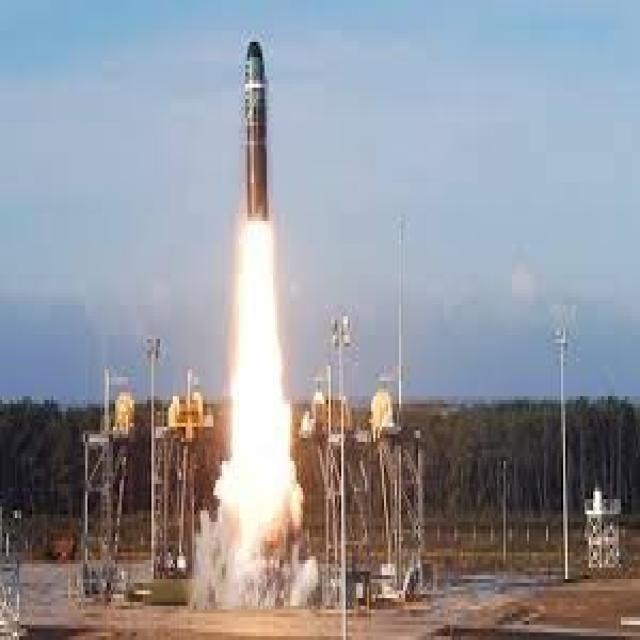Missile: (241, 25, 270, 245)
